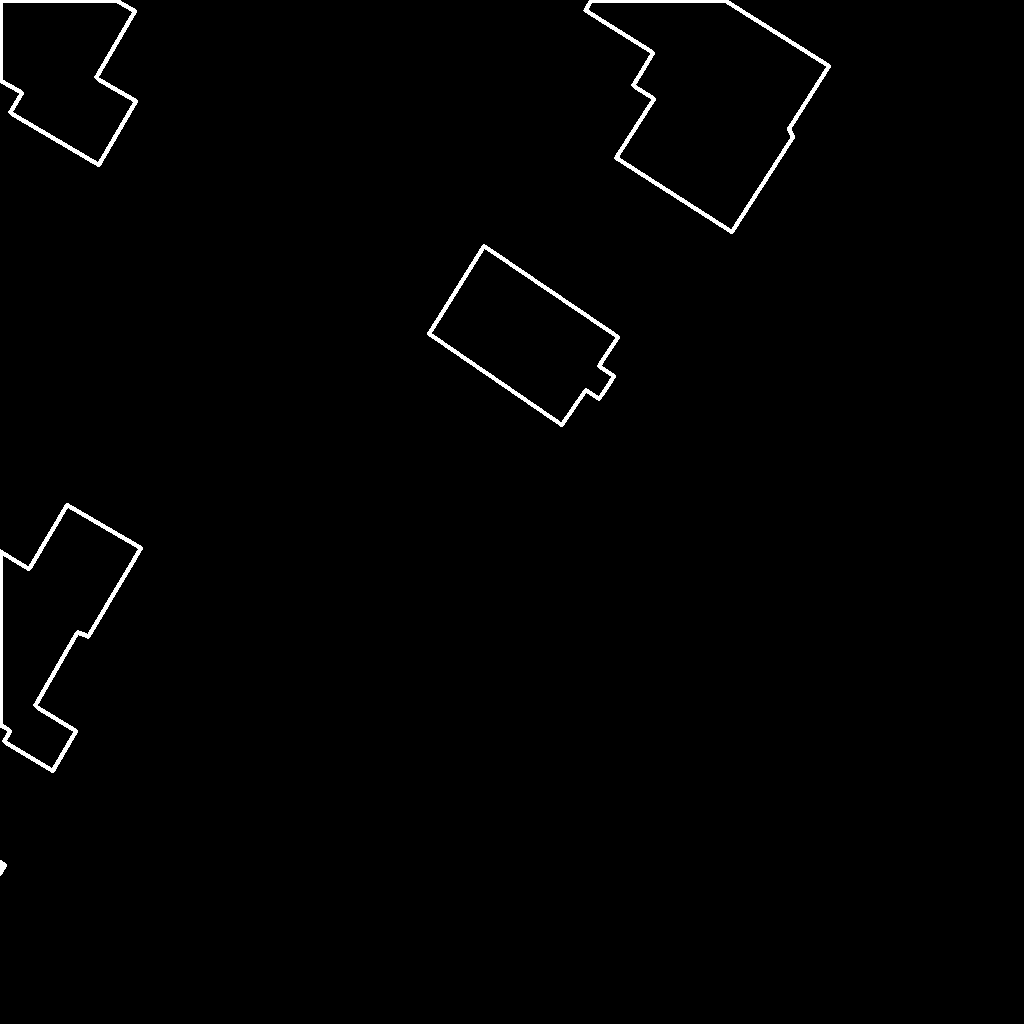building: (585, 0, 830, 233), (0, 505, 142, 772), (429, 246, 619, 426), (0, 0, 137, 166), (0, 862, 6, 875)
